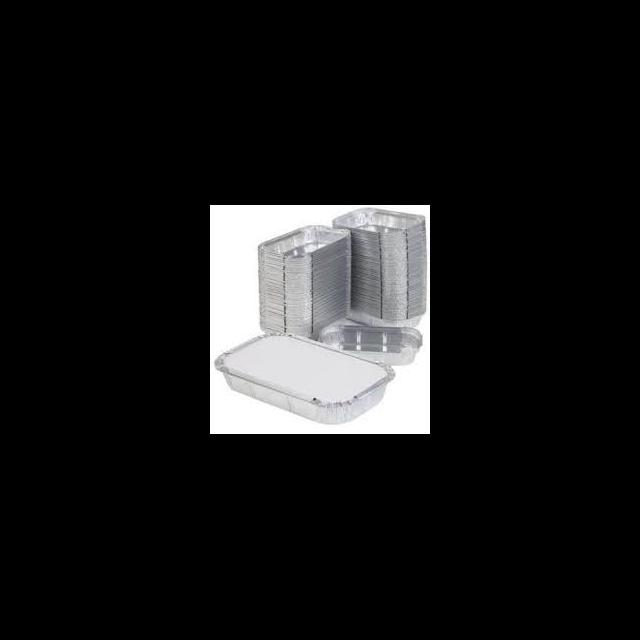metal: (214, 330, 393, 422), (332, 208, 425, 328), (258, 226, 349, 338), (321, 326, 421, 366)
